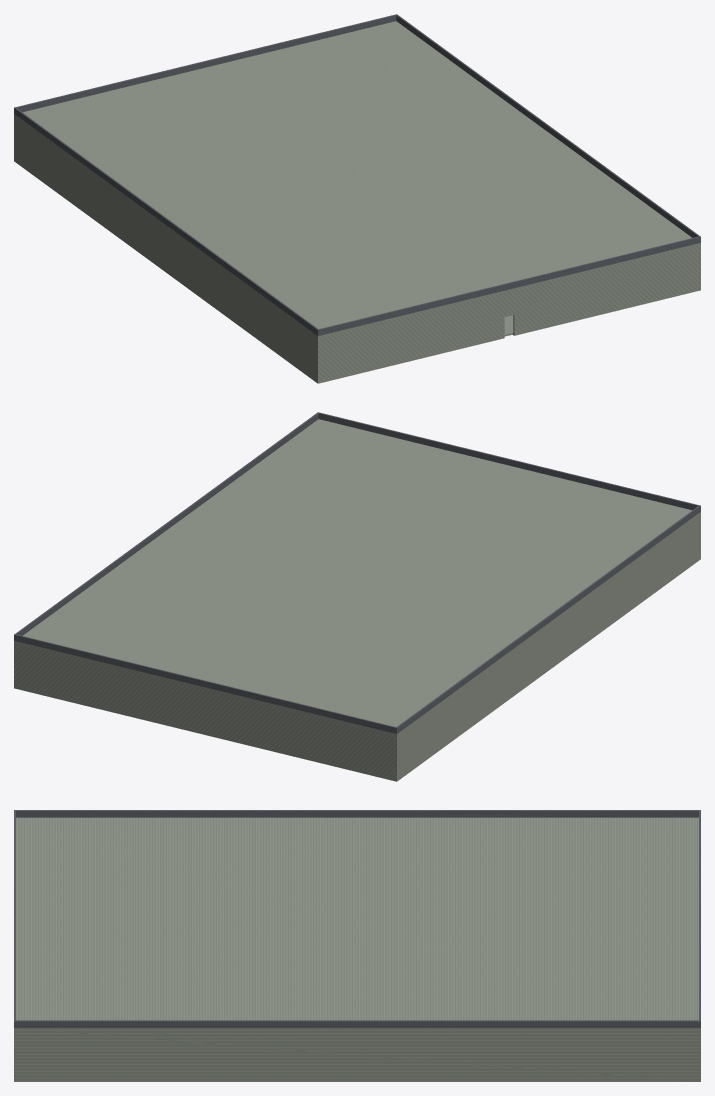
Rendered from school_consolidated.glb.
The picture shows the model from 3 angles, top to bottom: view 1: azimuth 30°, elevation 25°; view 2: azimuth 150°, elevation 25°; view 3: azimuth 270°, elevation 25°; orthographic projection. The views are drawn at different scales.
Visible parts, largest first — view 1: school_consolidated-col; view 2: school_consolidated-col; view 3: school_consolidated-col.
Boxes of the visible parts, x1,y1,x2,y2 form: school_consolidated-col: [14, 14, 700, 383]; school_consolidated-col: [14, 412, 700, 781]; school_consolidated-col: [14, 810, 700, 1081].
Size of the model in its own units: 40 by 5.36 by 55.
2 materials, 2 textured.
